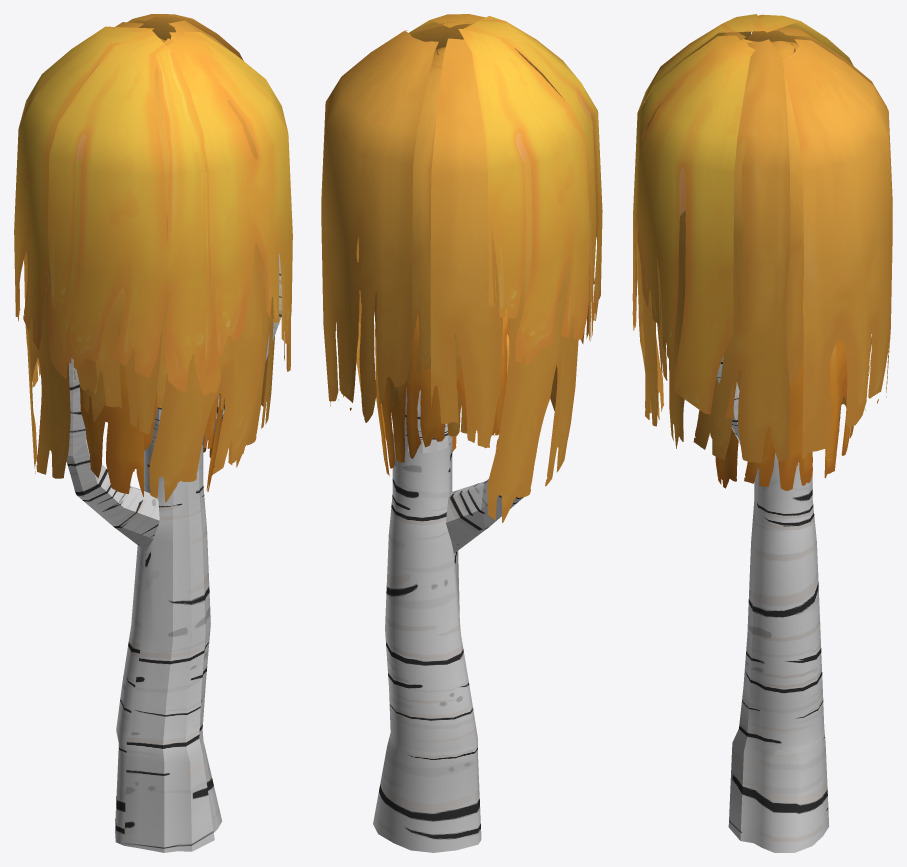
The model's file is Tree 3.FBX.
3 renders of one model, left to right at view 1: azimuth 30°, elevation 25°; view 2: azimuth 150°, elevation 25°; view 3: azimuth 270°, elevation 25°, orthographic. The views are drawn at different scales.
Parts seen in each view (by area): view 1: Cylinder005; view 2: Cylinder005; view 3: Cylinder005.
Boxes of the visible parts, box(x1,y1,x2,y2) form: Cylinder005: box(14, 14, 292, 852); Cylinder005: box(321, 14, 602, 852); Cylinder005: box(632, 14, 892, 852).
Size of the model in its own units: 21.5 by 69.32 by 20.78.
